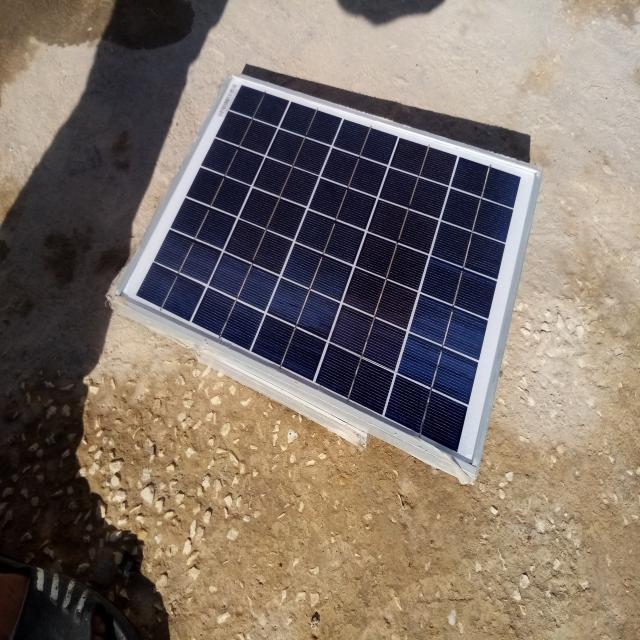no faulty: (115, 72, 540, 466)
